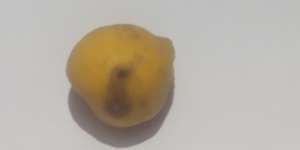BAD: (65, 24, 178, 127)
